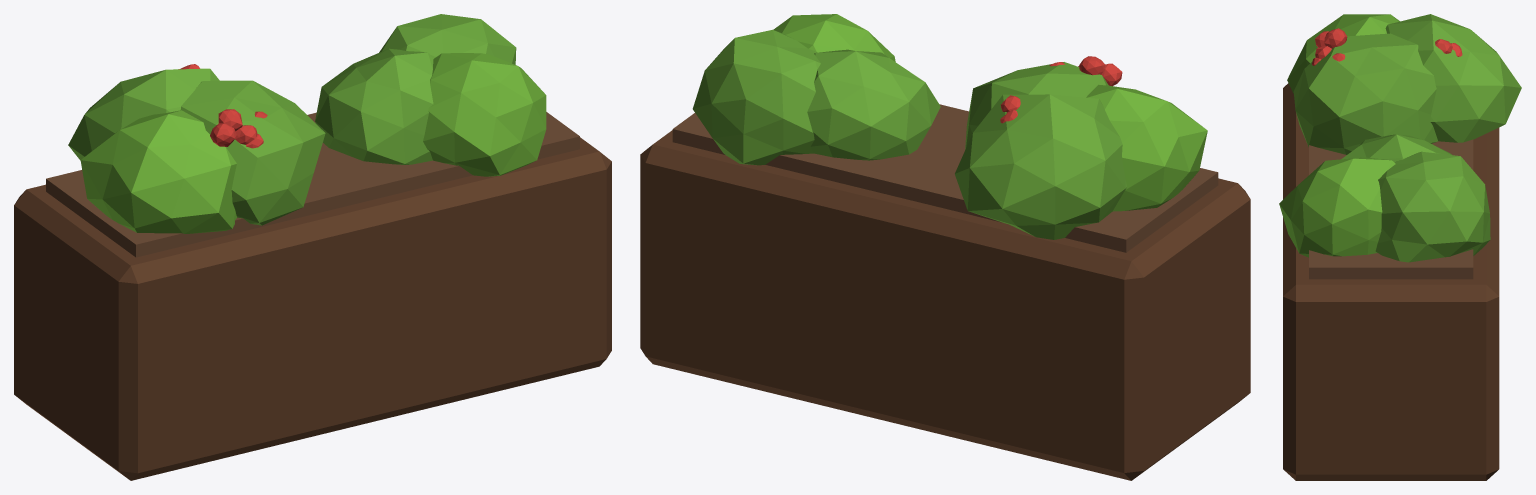
File: floreira.glb
The picture shows the model from 3 angles, left to right: view 1: azimuth 30°, elevation 25°; view 2: azimuth 150°, elevation 25°; view 3: azimuth 270°, elevation 25°; orthographic projection. The views are drawn at different scales.
Parts seen in each view (by area): view 1: floreira_00, floreira_02, floreira_03, floreira_01, floreira_04; view 2: floreira_00, floreira_02, floreira_01, floreira_03, floreira_04; view 3: floreira_00, floreira_02, floreira_03, floreira_01, floreira_04.
Boxes of the visible parts, bbox=[...] form: floreira_00: bbox=[14, 137, 611, 480]; floreira_02: bbox=[68, 14, 516, 225]; floreira_03: bbox=[80, 53, 546, 233]; floreira_01: bbox=[46, 112, 579, 257]; floreira_04: bbox=[178, 64, 267, 148]; floreira_00: bbox=[640, 130, 1250, 480]; floreira_02: bbox=[692, 29, 1126, 239]; floreira_01: bbox=[672, 104, 1218, 252]; floreira_03: bbox=[773, 14, 1207, 211]; floreira_04: bbox=[1000, 56, 1122, 123]; floreira_00: bbox=[1283, 83, 1499, 480]; floreira_02: bbox=[1293, 14, 1521, 262]; floreira_03: bbox=[1279, 14, 1399, 257]; floreira_01: bbox=[1309, 139, 1473, 279]; floreira_04: bbox=[1312, 28, 1462, 65].
Bounding box in the file's own units: 1.2 × 0.7666 × 0.5609.
